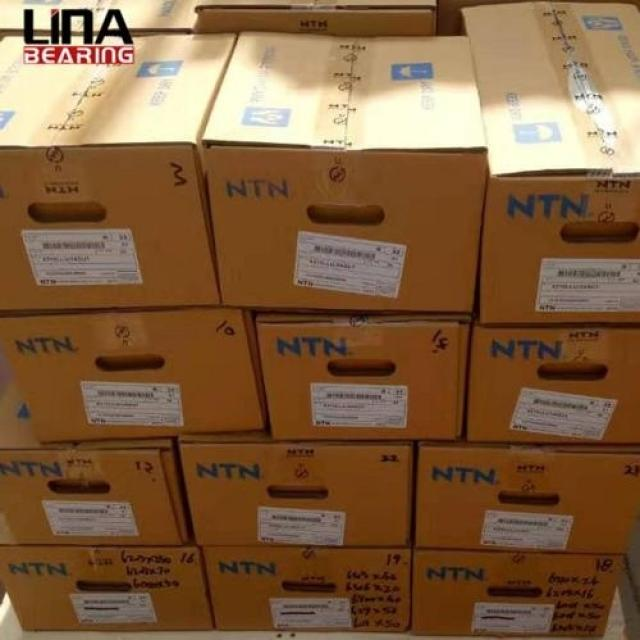box: (201, 31, 489, 314), (0, 32, 237, 314), (461, 1, 640, 327), (0, 308, 269, 444), (0, 376, 188, 546), (255, 312, 471, 441), (179, 430, 413, 545), (415, 440, 640, 555), (468, 326, 640, 444), (411, 550, 626, 640), (202, 545, 412, 635), (0, 545, 216, 631), (195, 0, 438, 35), (0, 0, 198, 37)
